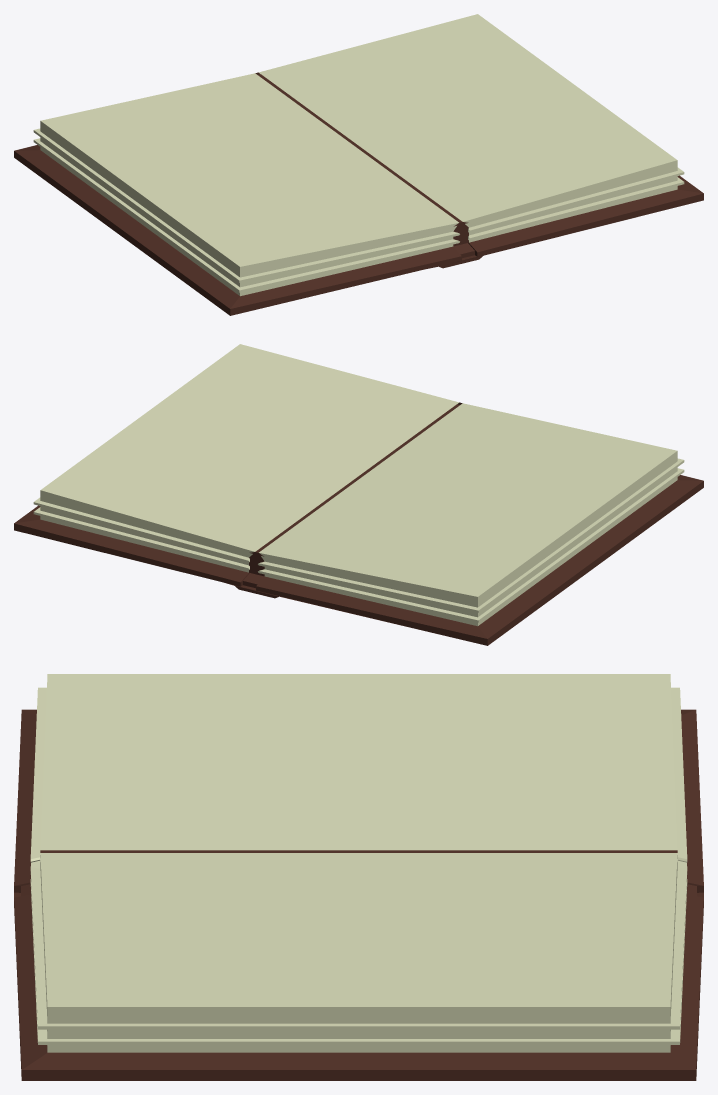
The model's file is PlantBook.fbx.
3 views of the same model, one above another, from view 1: azimuth 30°, elevation 25°; view 2: azimuth 150°, elevation 25°; view 3: azimuth 270°, elevation 25° (orthographic). The views are drawn at different scales.
Parts seen in each view (by area): view 1: PlantBook; view 2: PlantBook; view 3: PlantBook.
Part boxes in pixels (x1=…): PlantBook: x1=14, y1=14, x2=703, y2=315; PlantBook: x1=14, y1=344, x2=703, y2=645; PlantBook: x1=14, y1=674, x2=703, y2=1080.
Bounding box in the file's own units: 0.3344 × 0.0329 × 0.2705.
